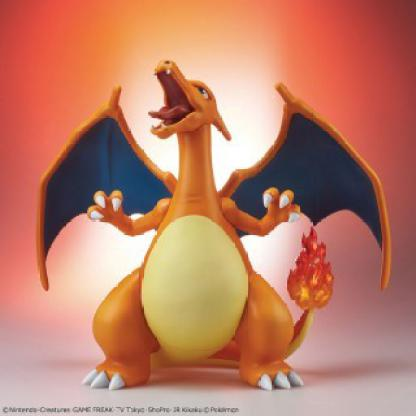Charizard: (17, 53, 401, 402)
